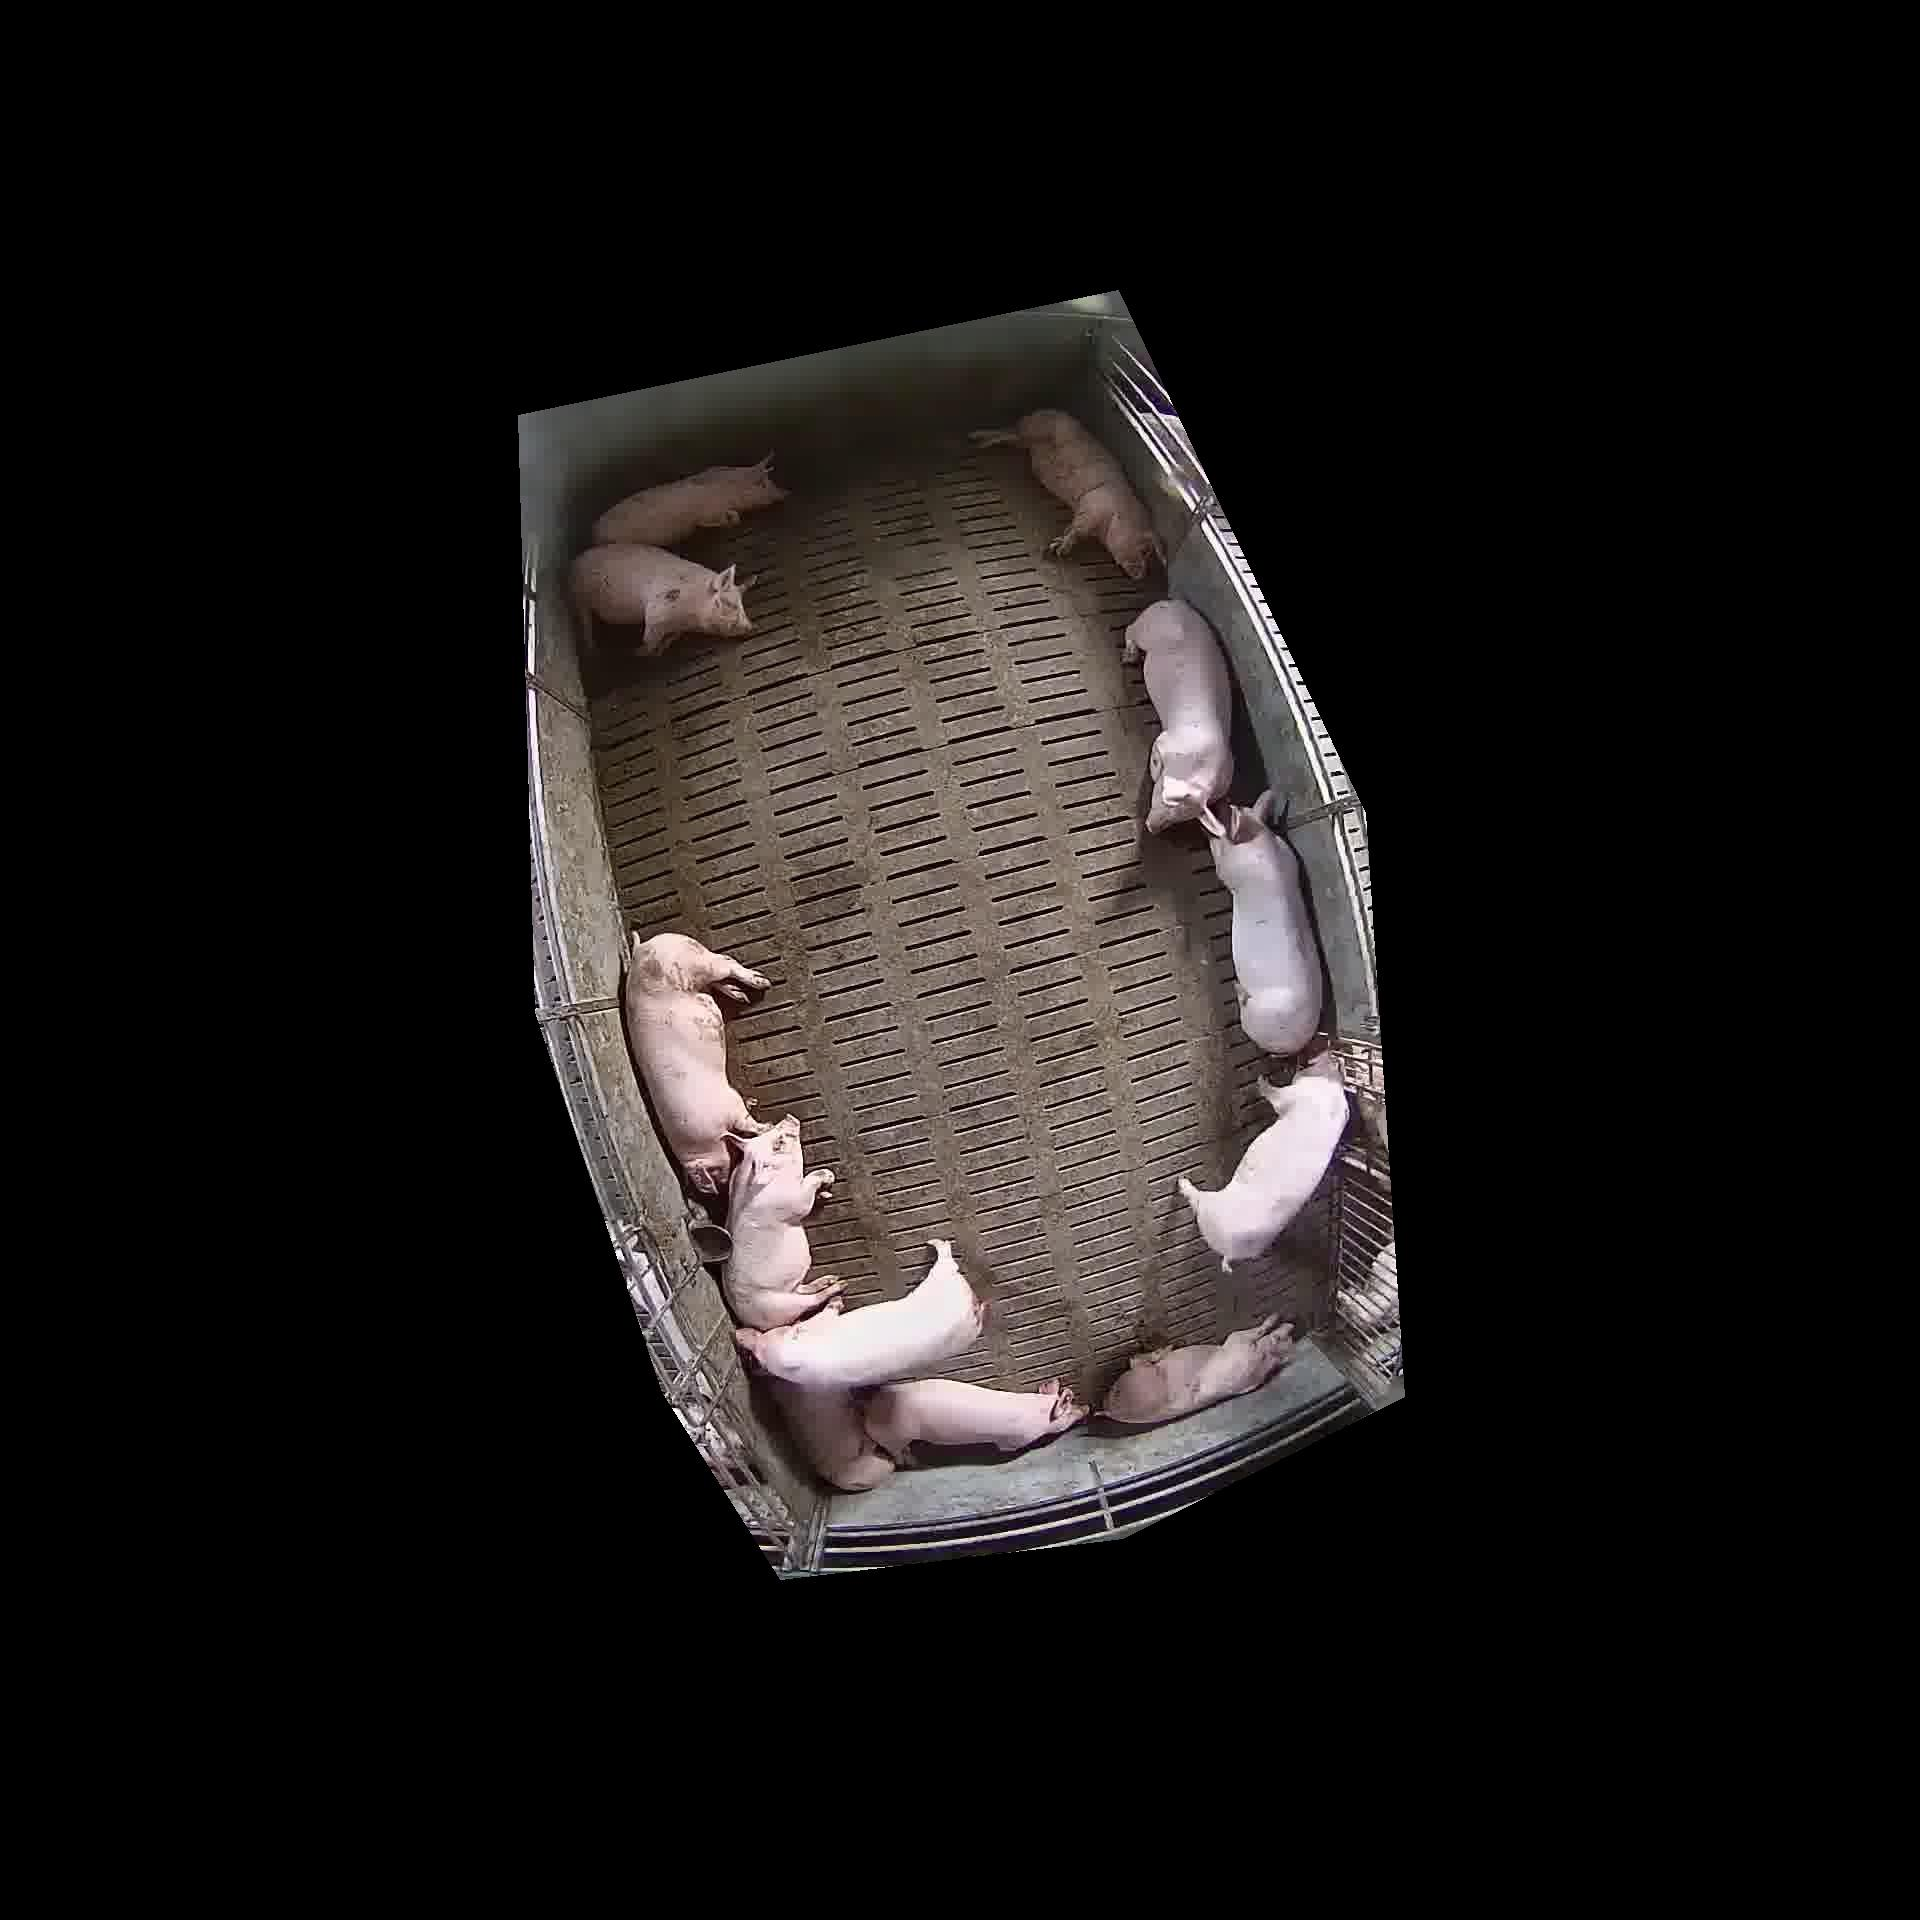pig: (733, 1238, 983, 1391), (624, 934, 767, 1194), (1178, 1053, 1349, 1262), (971, 410, 1160, 578), (1199, 805, 1322, 1053), (723, 1116, 842, 1329), (1125, 600, 1233, 832), (1102, 1315, 1292, 1424), (570, 543, 751, 654), (593, 454, 786, 547), (862, 1378, 1087, 1456), (767, 1377, 893, 1491)
